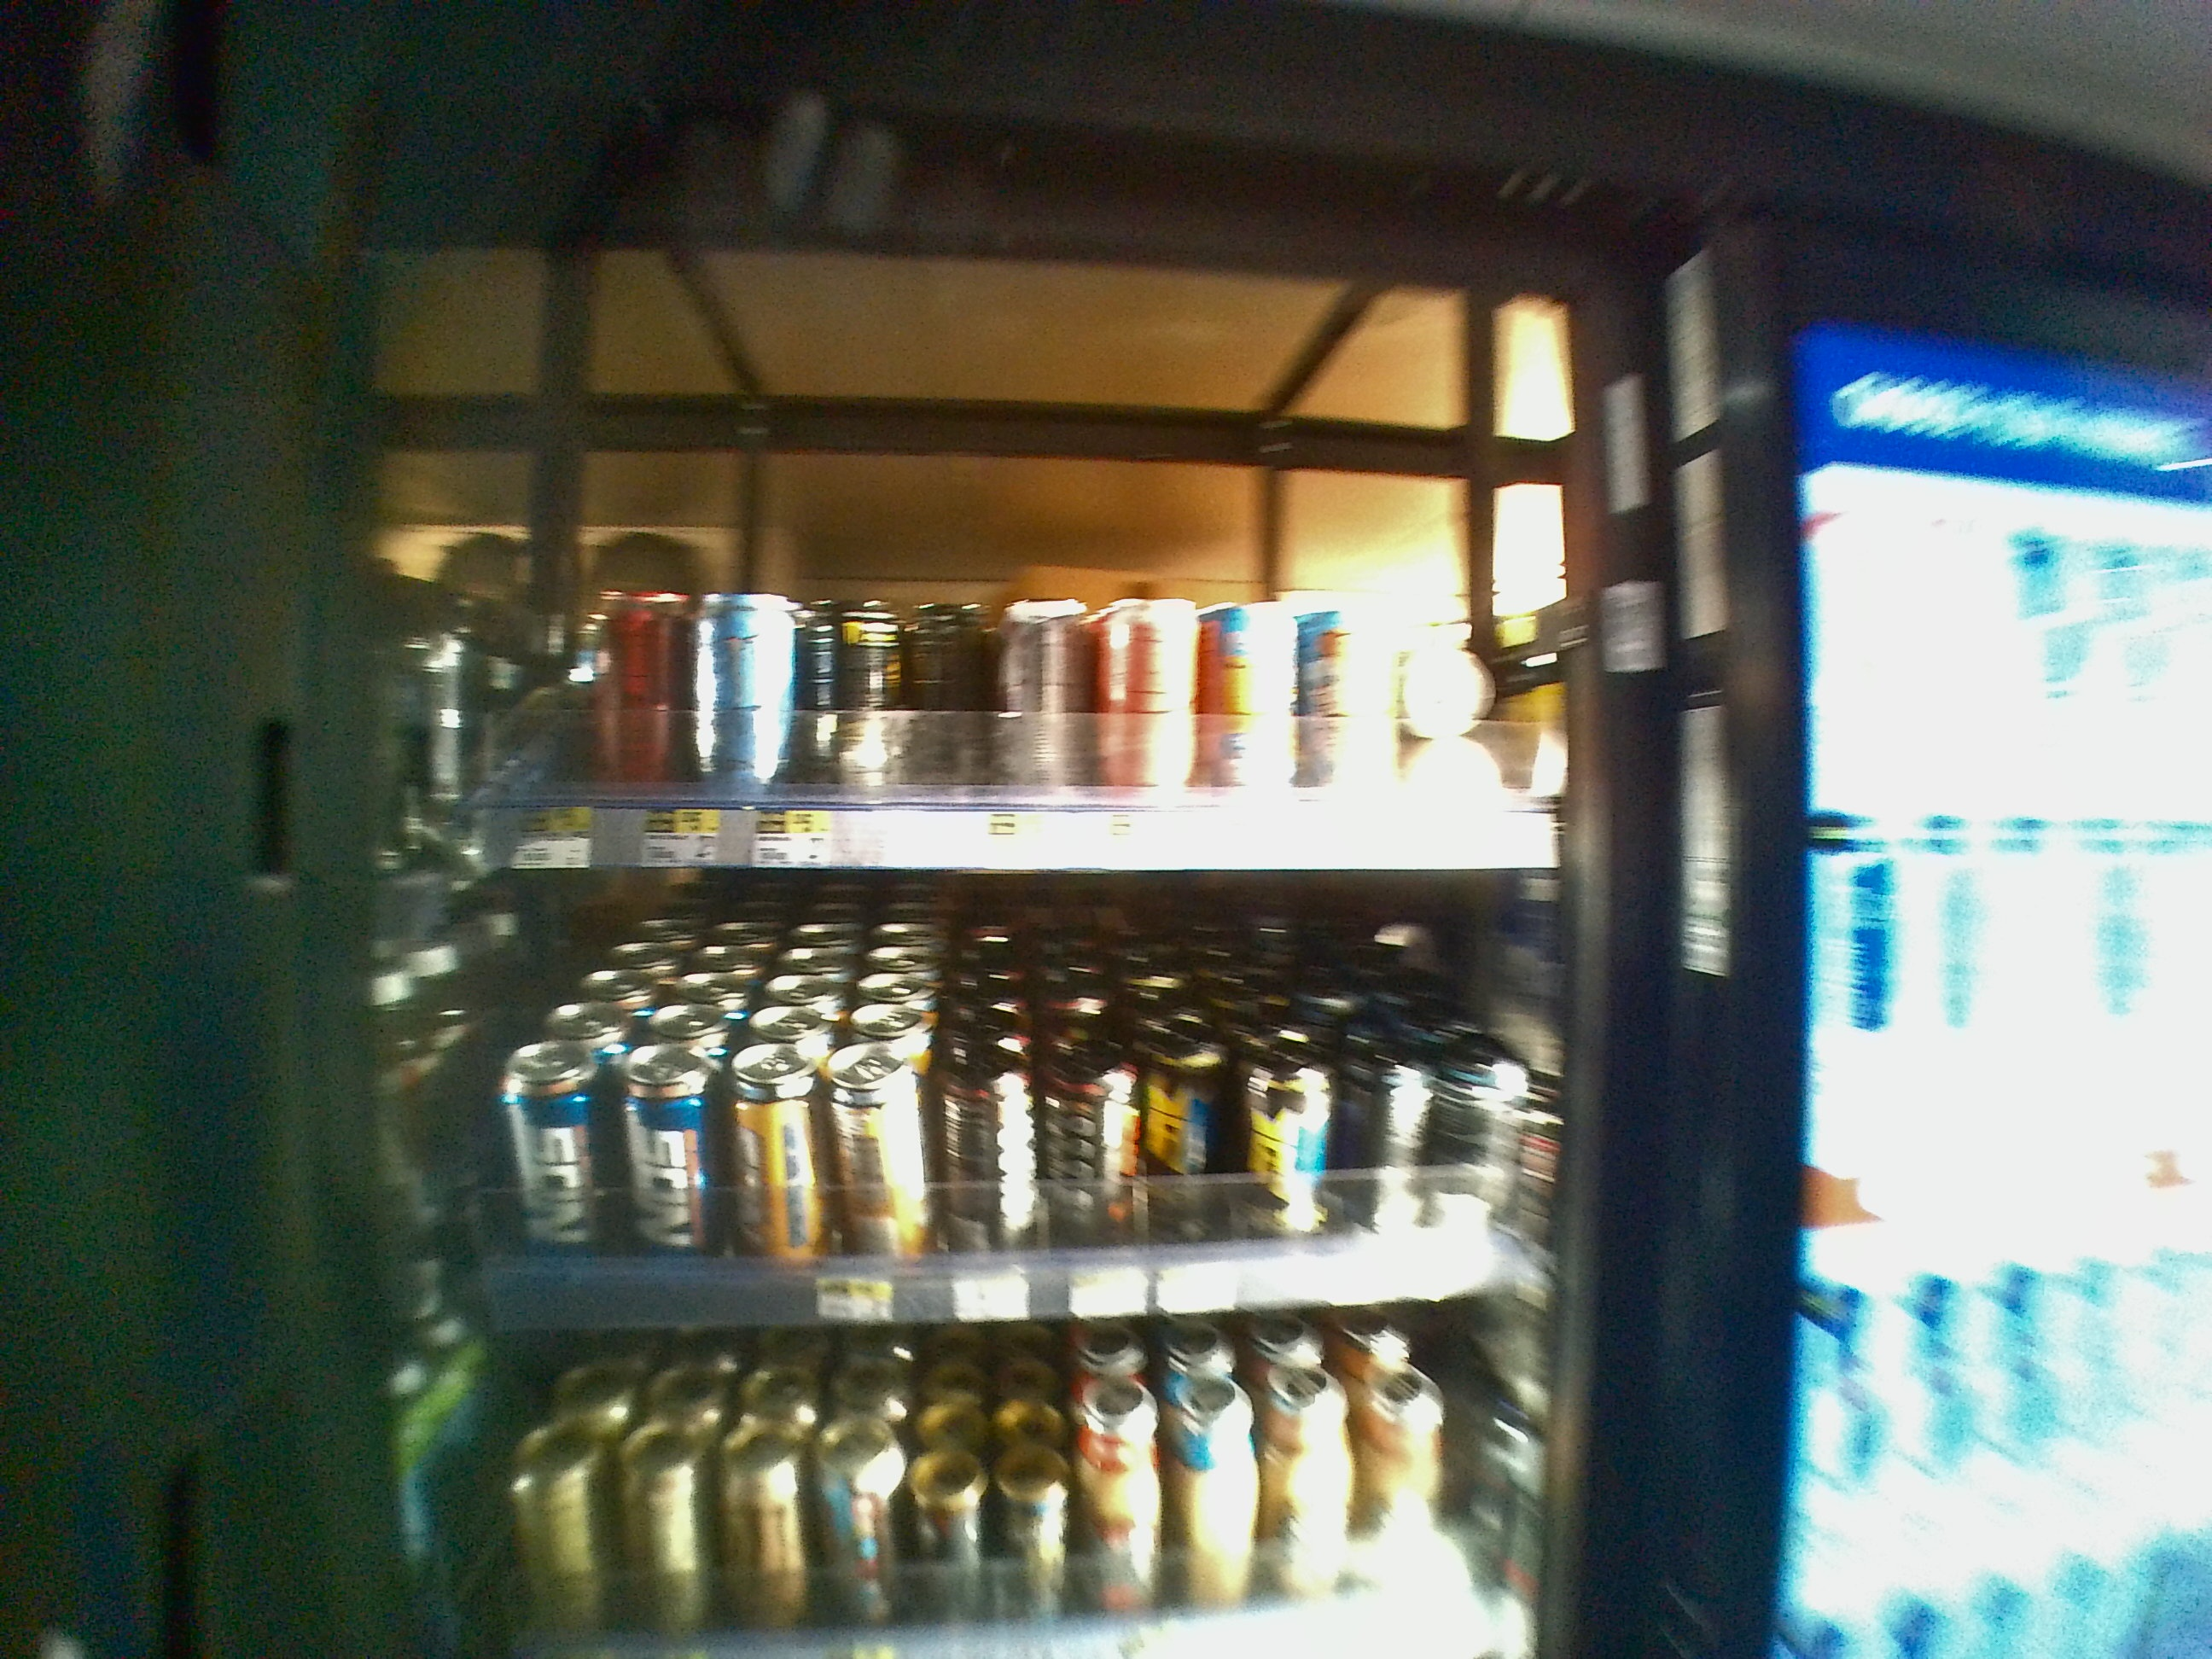shelf: (355, 249, 1581, 868), (340, 864, 1594, 1337)
